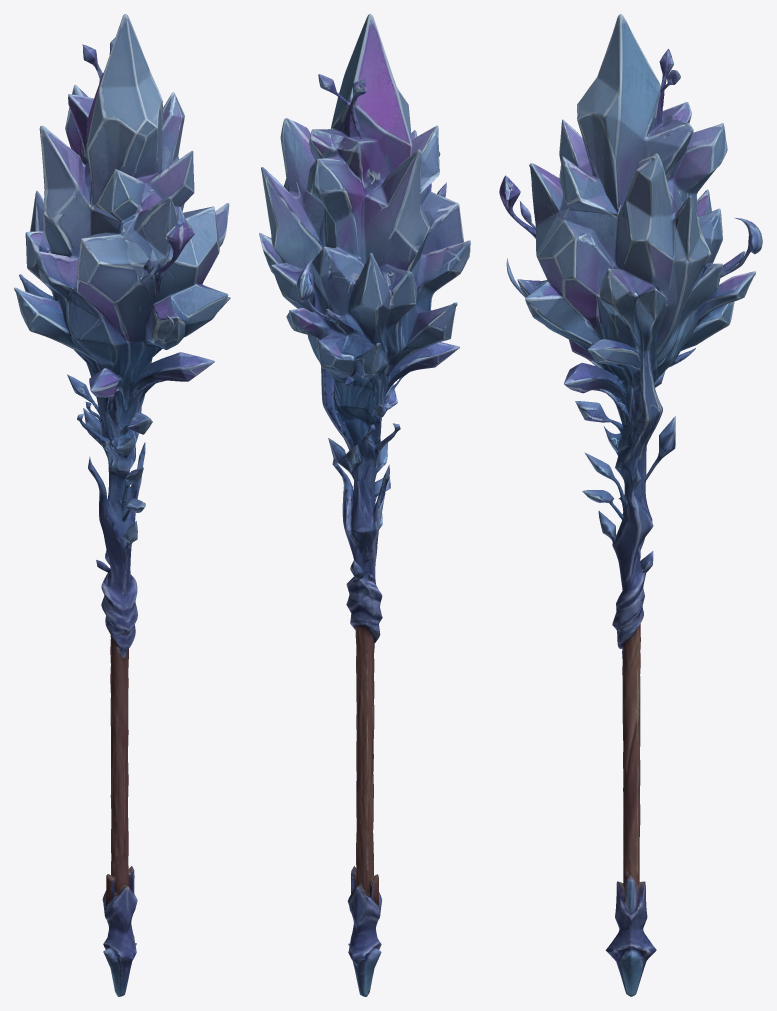
The model's file is magicstaff01.glb.
3 renders of one model, left to right at view 1: azimuth 30°, elevation 25°; view 2: azimuth 150°, elevation 25°; view 3: azimuth 270°, elevation 25°, orthographic.
Visible parts, largest first — view 1: tripo_node_62dfc447-8f49-4841-9941-cd21c30d714e; view 2: tripo_node_62dfc447-8f49-4841-9941-cd21c30d714e; view 3: tripo_node_62dfc447-8f49-4841-9941-cd21c30d714e.
Part boxes in pixels (box(x1,y1,x2,y2)): tripo_node_62dfc447-8f49-4841-9941-cd21c30d714e: box(14, 14, 230, 996); tripo_node_62dfc447-8f49-4841-9941-cd21c30d714e: box(259, 14, 470, 996); tripo_node_62dfc447-8f49-4841-9941-cd21c30d714e: box(499, 14, 762, 996).
Size of the model in its own units: 0.2093 by 0.9993 by 0.2428.
1 material, 1 textured.
